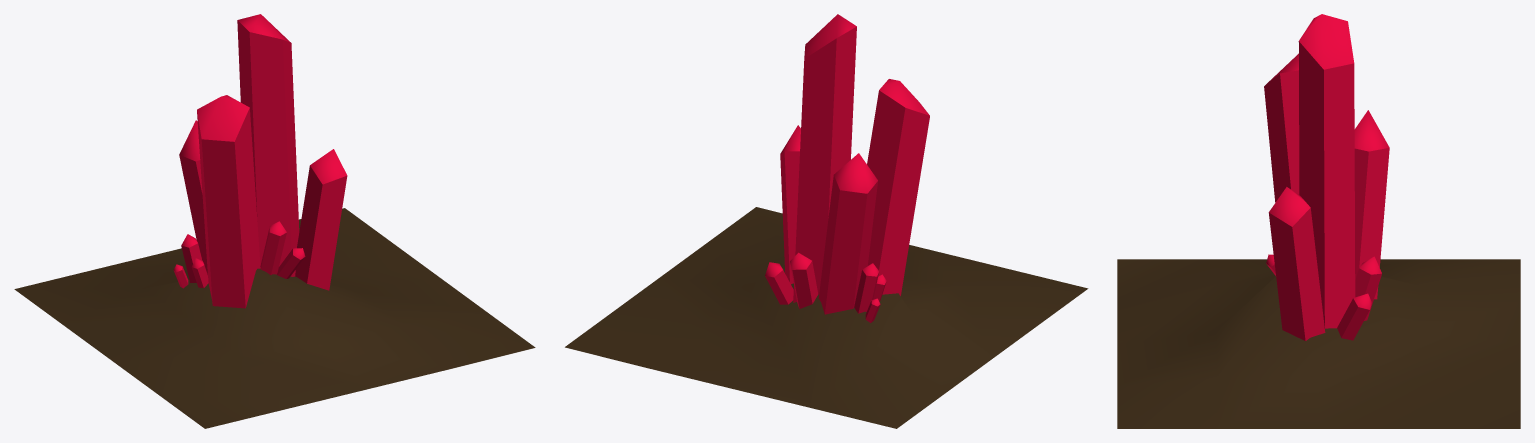
Rendered from Crystal3.fbx.
The picture shows the model from 3 angles, left to right: view 1: azimuth 30°, elevation 25°; view 2: azimuth 150°, elevation 25°; view 3: azimuth 270°, elevation 25°; orthographic projection. The views are drawn at different scales.
Visible parts, largest first — view 1: kristall3; view 2: kristall3; view 3: kristall3.
Part boxes in pixels (x1,y1,x2,y2): kristall3: (14,14,535,428); kristall3: (565,14,1088,428); kristall3: (1117,14,1520,428).
Size of the model in its own units: 57.08 by 51.04 by 57.08.
